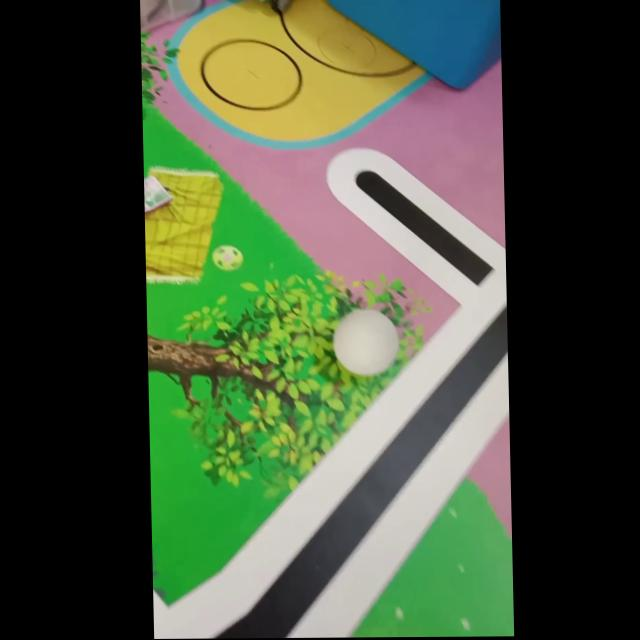white ball: (331, 308, 400, 377)
